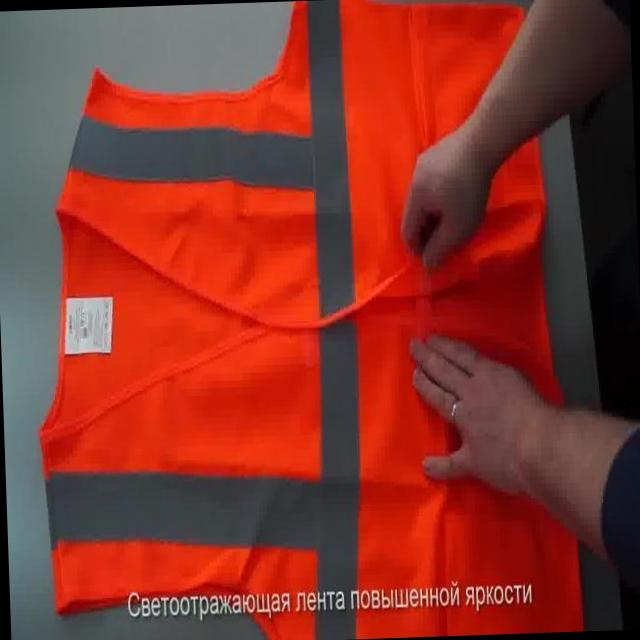safety_vest: (21, 0, 586, 640)
